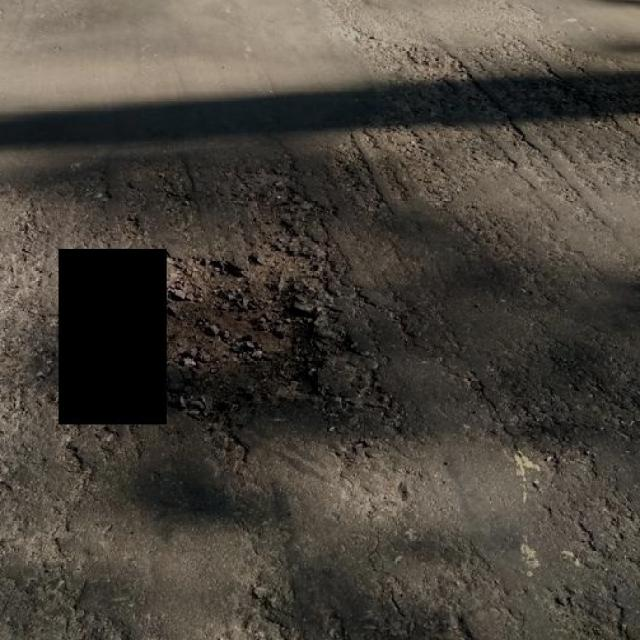road-pothole: (170, 252, 344, 423)
